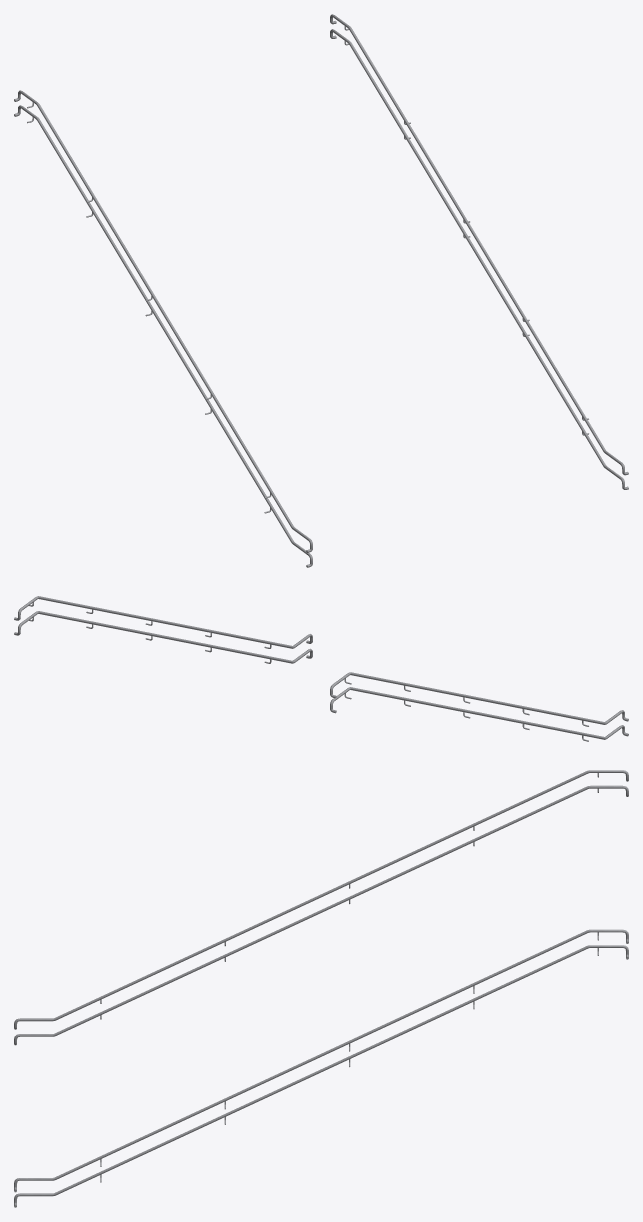
The model's file is gteki_ik_stair_n19_r168_t328_w4347_rails_wall.glb.
3 renders of one model, top to bottom at view 1: azimuth 30°, elevation 25°; view 2: azimuth 150°, elevation 25°; view 3: azimuth 270°, elevation 25°, orthographic. The views are drawn at different scales.
Parts seen in each view (by area): view 1: VIS_handrails; view 2: VIS_handrails, VIS_rail_supports; view 3: VIS_handrails.
Boxes of the visible parts, left/top/right/bottom form: VIS_handrails: left=14, top=14, right=628, bottom=567; VIS_handrails: left=14, top=596, right=628, bottom=739; VIS_rail_supports: left=29, top=602, right=588, bottom=741; VIS_handrails: left=14, top=770, right=628, bottom=1207.
Bounding box in the file's own units: 4.57 × 3.55 × 7.17.
1 material, 1 textured.
